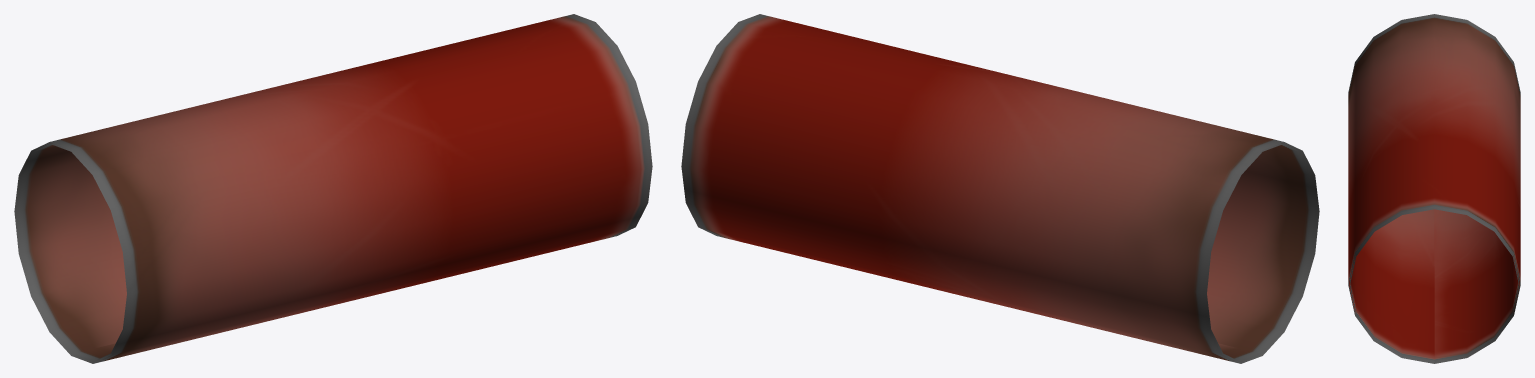
File: pipe01_str_32a_hollow.fbx
3 renders of one model, left to right at view 1: azimuth 30°, elevation 25°; view 2: azimuth 150°, elevation 25°; view 3: azimuth 270°, elevation 25°, orthographic. The views are drawn at different scales.
Visible parts, largest first — view 1: pipe01_str_32a_hollow; view 2: pipe01_str_32a_hollow; view 3: pipe01_str_32a_hollow.
Part boxes in pixels (x1,y1,x2,y2): pipe01_str_32a_hollow: [14, 14, 652, 363]; pipe01_str_32a_hollow: [681, 14, 1319, 363]; pipe01_str_32a_hollow: [1348, 14, 1520, 363].
Size of the model in its own units: 32 by 12 by 12.
